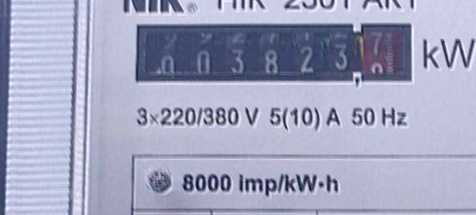0: (193, 45, 213, 72), (159, 49, 177, 73)
2: (298, 41, 317, 73)
3: (333, 39, 351, 70), (229, 43, 247, 72)
7: (370, 29, 386, 57)
8: (263, 45, 280, 73)
9: (161, 28, 179, 48)
screen: (128, 13, 418, 89)
